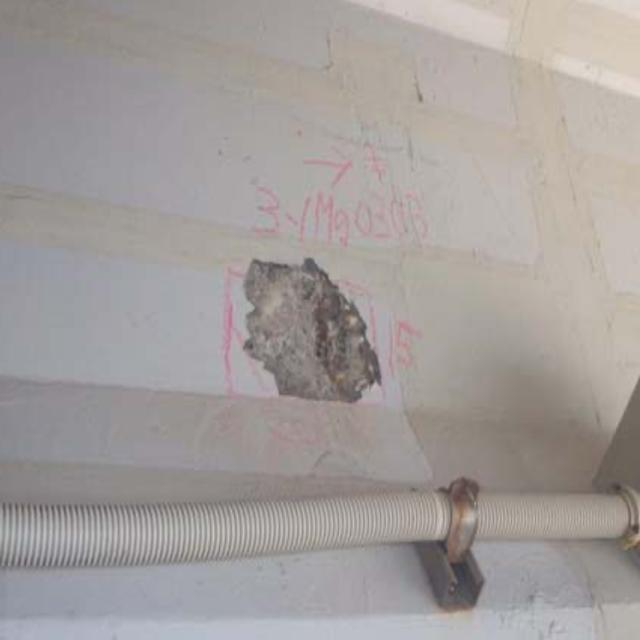spalling: (228, 244, 396, 419)
